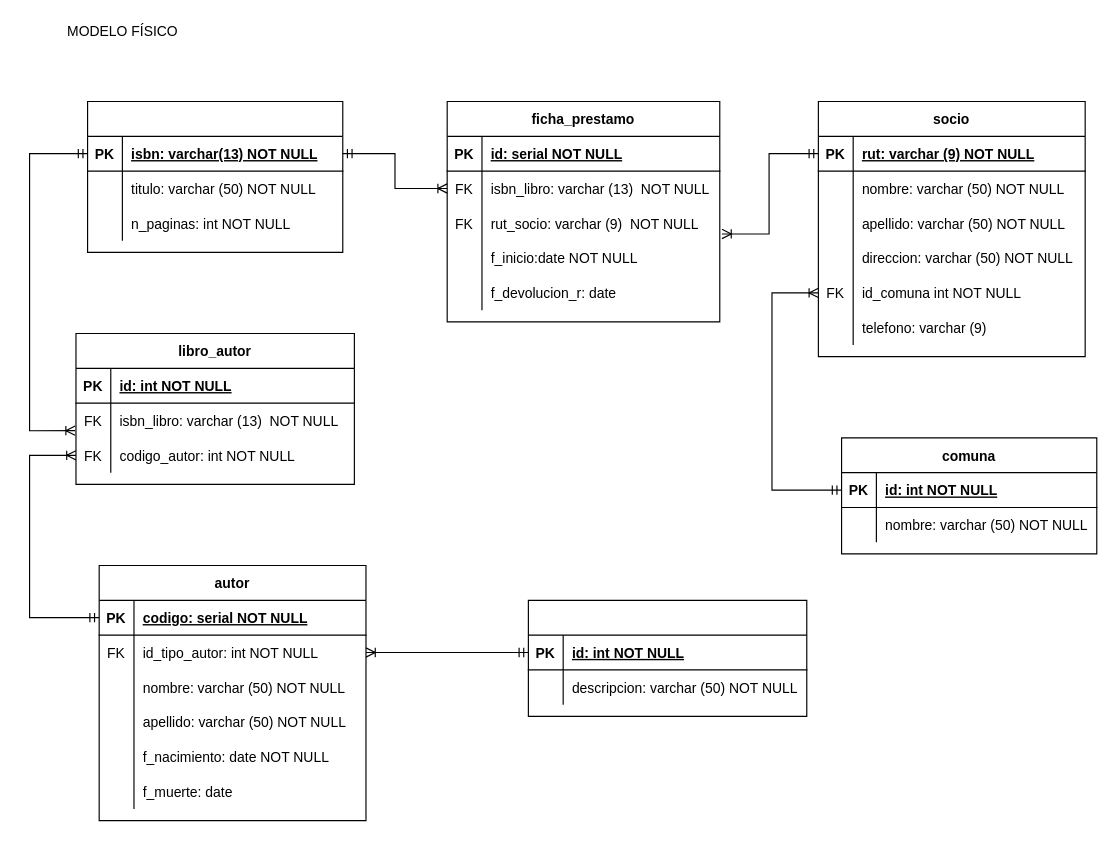
Image size: 1117x841. Some labels were removed from this diagram. Each missing label, with the box of its shape:
libro: (86, 100, 343, 252)
tipo_autor: (527, 599, 807, 716)
